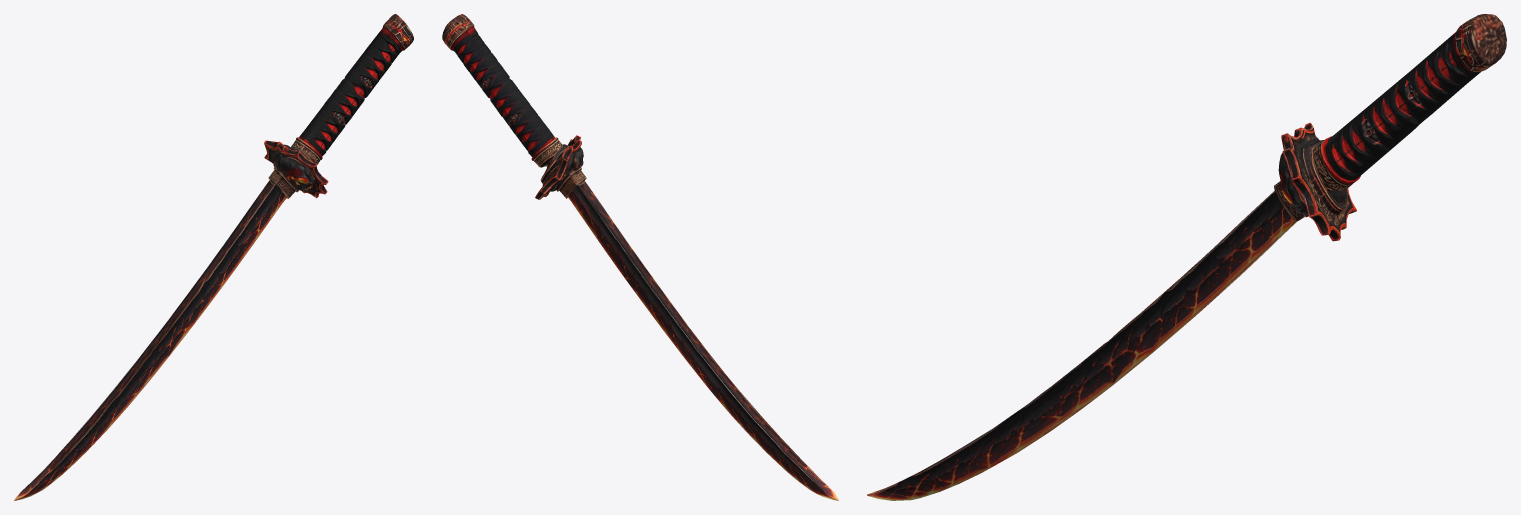
Rendered from katana.fbx.
The picture shows the model from 3 angles, left to right: view 1: azimuth 30°, elevation 25°; view 2: azimuth 150°, elevation 25°; view 3: azimuth 330°, elevation 25°; orthographic projection. The views are drawn at different scales.
Parts seen in each view (by area): view 1: katana; view 2: katana; view 3: katana.
Boxes of the visible parts, x1,y1,x2,y2 form: katana: [14, 14, 413, 500]; katana: [442, 14, 838, 500]; katana: [867, 14, 1506, 500].
Size of the model in its own units: 400 by 382 by 62.01.
1 material, 1 textured.
